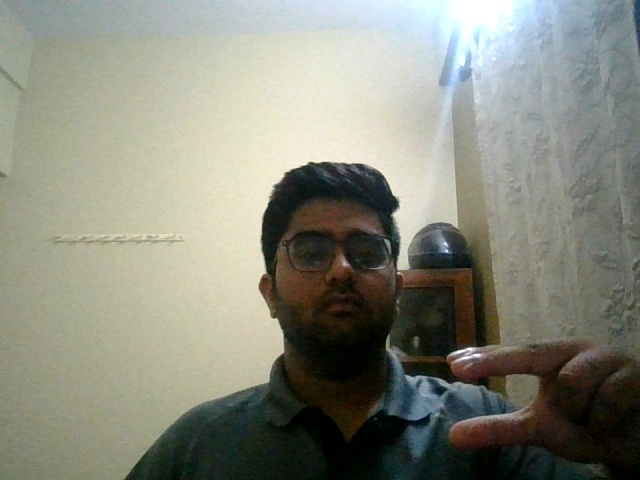No: (432, 328, 640, 465)
